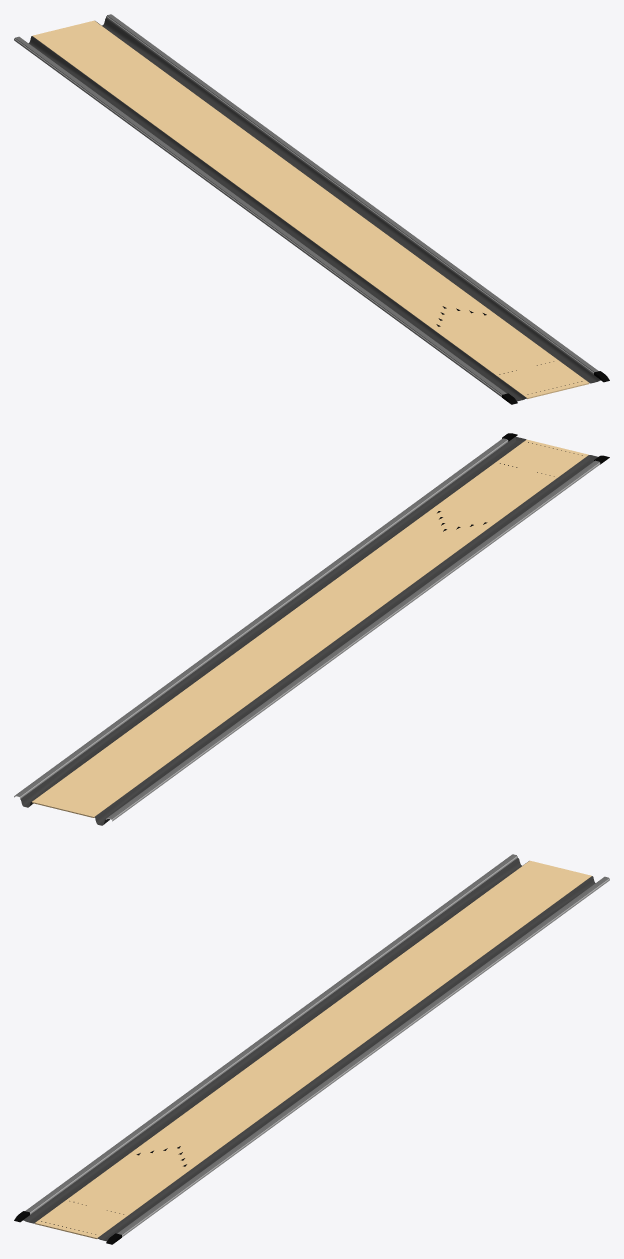
The model's file is onetrack.fbx.
The picture shows the model from 3 angles, top to bottom: view 1: azimuth 30°, elevation 25°; view 2: azimuth 150°, elevation 25°; view 3: azimuth 330°, elevation 25°; orthographic projection.
Visible parts, largest first — view 1: Object005, Object037, Object004, Object003, Object039, Object002, Object040; view 2: Object005, Object037, Object004, Object003, Object039, Object002, Object040; view 3: Object005, Object004, Object037, Object039, Object003, Object040, Object002.
Part boxes in pixels (x1,y1,x2,y2): Object005: (32,20,589,398); Object037: (95,18,600,383); Object004: (28,36,526,401); Object003: (15,36,506,394); Object039: (107,14,598,372); Object002: (14,38,501,397); Object040: (106,16,593,374); Object005: (32,439,588,817); Object037: (20,436,526,807); Object004: (94,455,597,825); Object003: (107,460,599,819); Object039: (15,438,507,796); Object002: (106,462,600,821); Object040: (14,440,508,798); Object005: (35,860,591,1238); Object004: (23,858,528,1223); Object037: (97,876,595,1241); Object039: (117,876,608,1234); Object003: (25,854,516,1212); Object040: (122,878,609,1237); Object002: (30,856,517,1214).
Size of the model in its own units: 80.26 by 7.34 by 703.
